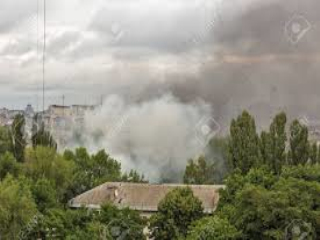smoke: (91, 86, 218, 178)
